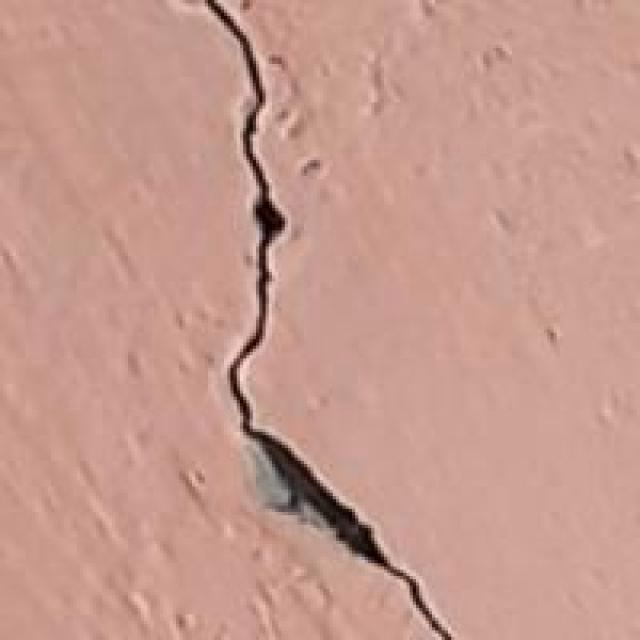crack: (174, 0, 470, 640)
